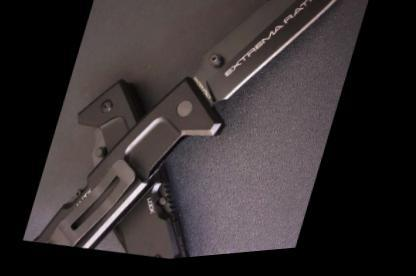knife: (149, 0, 363, 173)
